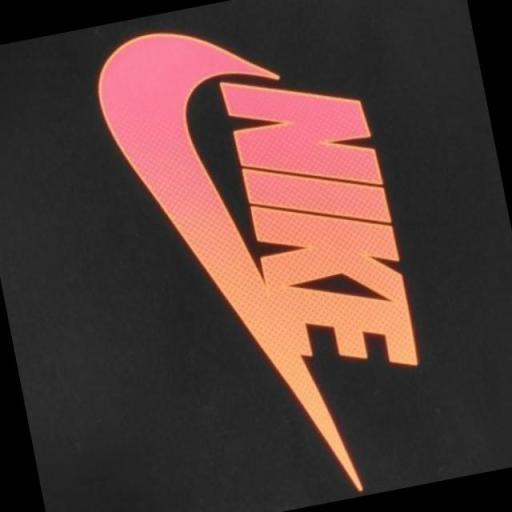Nike: (84, 3, 366, 512), (213, 50, 428, 406)
